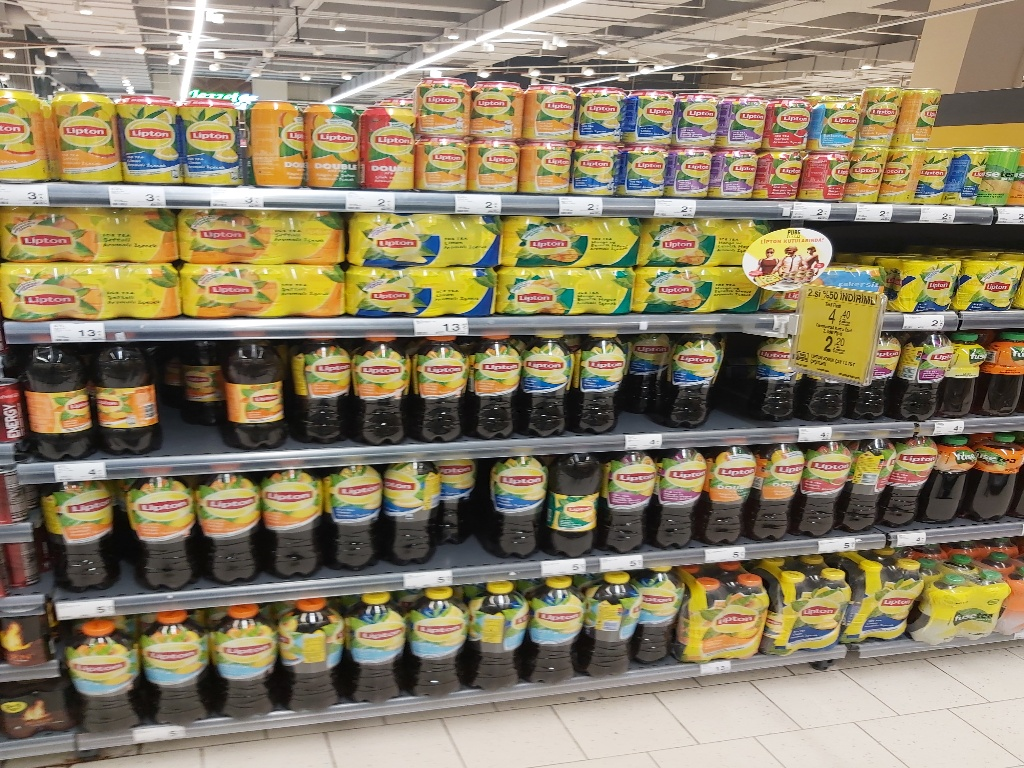urun: (1, 204, 183, 265), (165, 266, 348, 323), (170, 210, 353, 266), (1, 265, 183, 321), (59, 617, 140, 741), (15, 337, 92, 465), (90, 334, 166, 462), (40, 477, 119, 598), (119, 474, 198, 594), (344, 212, 507, 270), (906, 563, 1014, 649), (343, 264, 503, 319), (143, 605, 211, 730), (274, 596, 342, 721), (216, 338, 287, 457), (212, 600, 280, 724), (492, 215, 644, 270), (282, 332, 352, 451), (342, 330, 412, 449), (49, 74, 118, 189), (113, 77, 182, 192), (177, 76, 246, 191), (197, 467, 261, 590), (261, 458, 325, 581), (321, 457, 385, 580), (767, 571, 858, 657), (493, 262, 639, 314), (628, 271, 774, 323), (678, 577, 765, 663), (637, 214, 783, 265), (404, 590, 466, 708), (383, 454, 444, 573), (342, 594, 403, 712), (466, 586, 527, 704), (525, 577, 586, 695), (576, 573, 637, 691), (404, 330, 468, 442), (486, 452, 547, 563), (241, 93, 310, 191), (543, 449, 603, 561), (594, 442, 654, 553), (566, 326, 625, 435), (462, 332, 521, 440), (660, 328, 719, 436), (515, 329, 573, 438), (303, 93, 364, 187), (653, 444, 703, 556), (748, 335, 809, 425), (358, 95, 417, 188), (855, 558, 918, 644), (792, 442, 844, 543), (701, 443, 749, 547), (751, 440, 799, 544), (897, 326, 946, 426), (630, 566, 676, 671), (969, 429, 1018, 526), (877, 436, 925, 534), (922, 431, 970, 529), (883, 250, 961, 310), (835, 439, 883, 536), (975, 328, 1021, 420), (413, 65, 471, 136), (463, 70, 521, 141), (950, 255, 1024, 310), (521, 76, 579, 146), (617, 76, 675, 146), (571, 78, 628, 148), (416, 138, 470, 200), (466, 138, 520, 200), (517, 138, 571, 200), (617, 143, 671, 205), (663, 143, 717, 205), (568, 141, 622, 202), (896, 79, 941, 150), (860, 82, 901, 154), (672, 88, 722, 145), (796, 152, 845, 210), (719, 87, 769, 143), (763, 91, 813, 147), (810, 92, 860, 148), (707, 146, 755, 204), (753, 148, 801, 206), (846, 152, 886, 211), (879, 152, 919, 211), (910, 152, 948, 210), (946, 150, 984, 207)
urun2: (1, 82, 50, 187)
